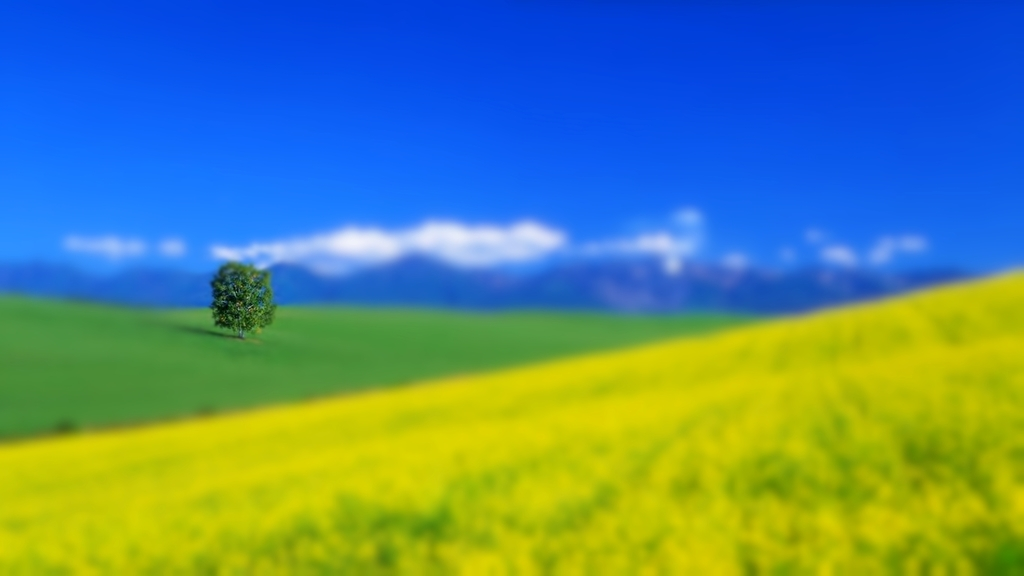Tree: (200, 239, 272, 338)
